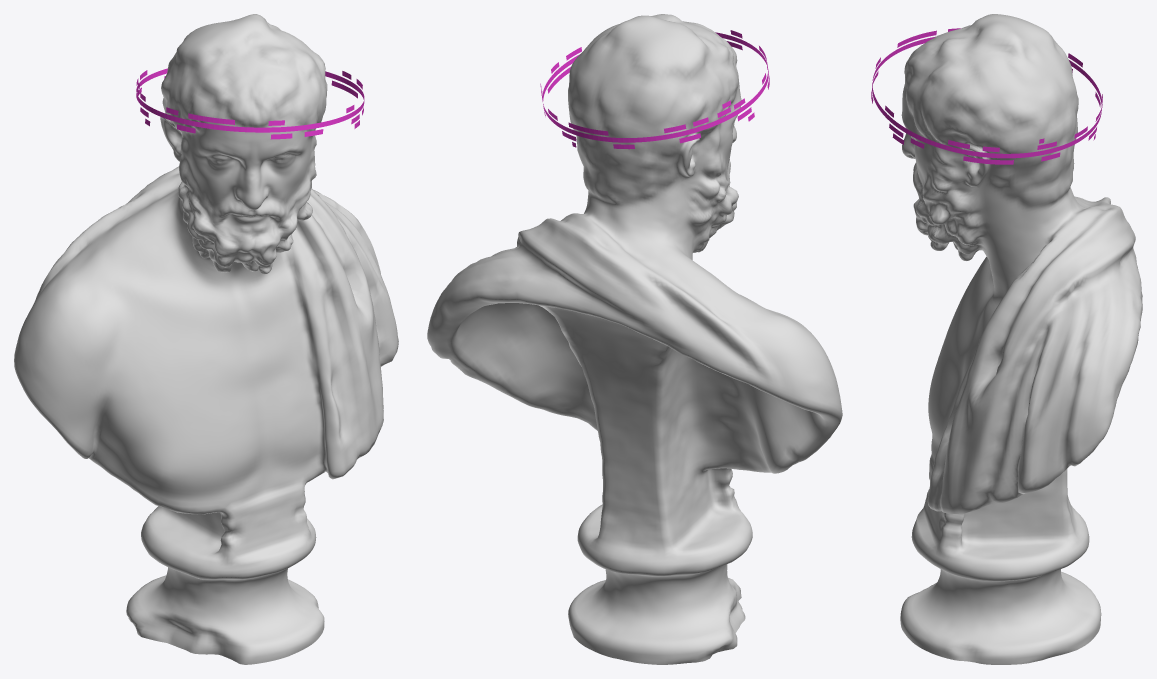
The model's file is Rhetorician_export.fbx.
The picture shows the model from 3 angles, left to right: view 1: azimuth 30°, elevation 25°; view 2: azimuth 150°, elevation 25°; view 3: azimuth 270°, elevation 25°; orthographic projection.
Visible parts, largest first — view 1: mentor roman retopo, nimbus.001, nimbus.002; view 2: mentor roman retopo, nimbus.001, nimbus.002; view 3: mentor roman retopo, nimbus.001, nimbus.002.
Boxes of the visible parts, <box> form: mentor roman retopo: <box>14,14,398,664</box>; nimbus.001: <box>136,68,364,132</box>; nimbus.002: <box>136,70,363,139</box>; mentor roman retopo: <box>427,14,842,664</box>; nimbus.001: <box>542,32,768,142</box>; nimbus.002: <box>541,30,769,149</box>; mentor roman retopo: <box>900,14,1142,664</box>; nimbus.001: <box>872,36,1102,158</box>; nimbus.002: <box>871,28,1102,164</box>.
Size of the model in its own units: 359 by 542 by 220.
